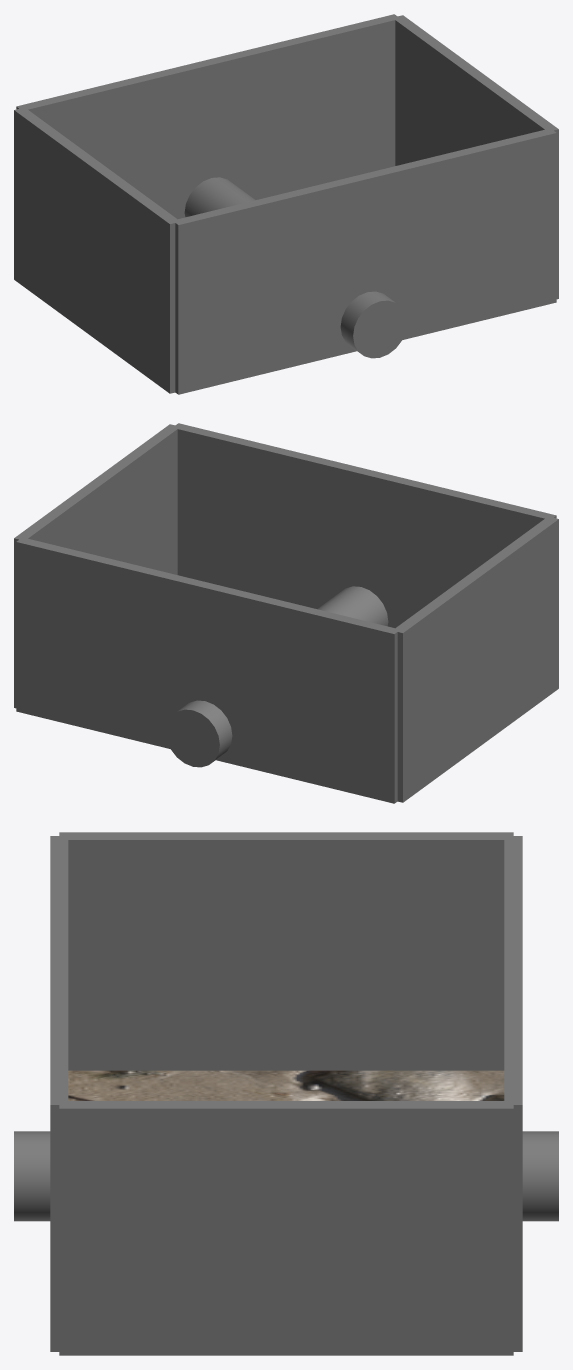
Rendered from pecera3.obj.
3 renders of one model, top to bottom at view 1: azimuth 30°, elevation 25°; view 2: azimuth 150°, elevation 25°; view 3: azimuth 270°, elevation 25°, orthographic. The views are drawn at different scales.
Visible parts, largest first — view 1: polySurface13; view 2: polySurface13; view 3: polySurface13.
Boxes of the visible parts, x1,y1,x2,y2 form: polySurface13: [14, 14, 558, 394]; polySurface13: [14, 423, 558, 803]; polySurface13: [14, 832, 558, 1355].
Bounding box in the file's own units: 7.2 × 3 × 6.
Materials: 2 (1 with a texture image).
